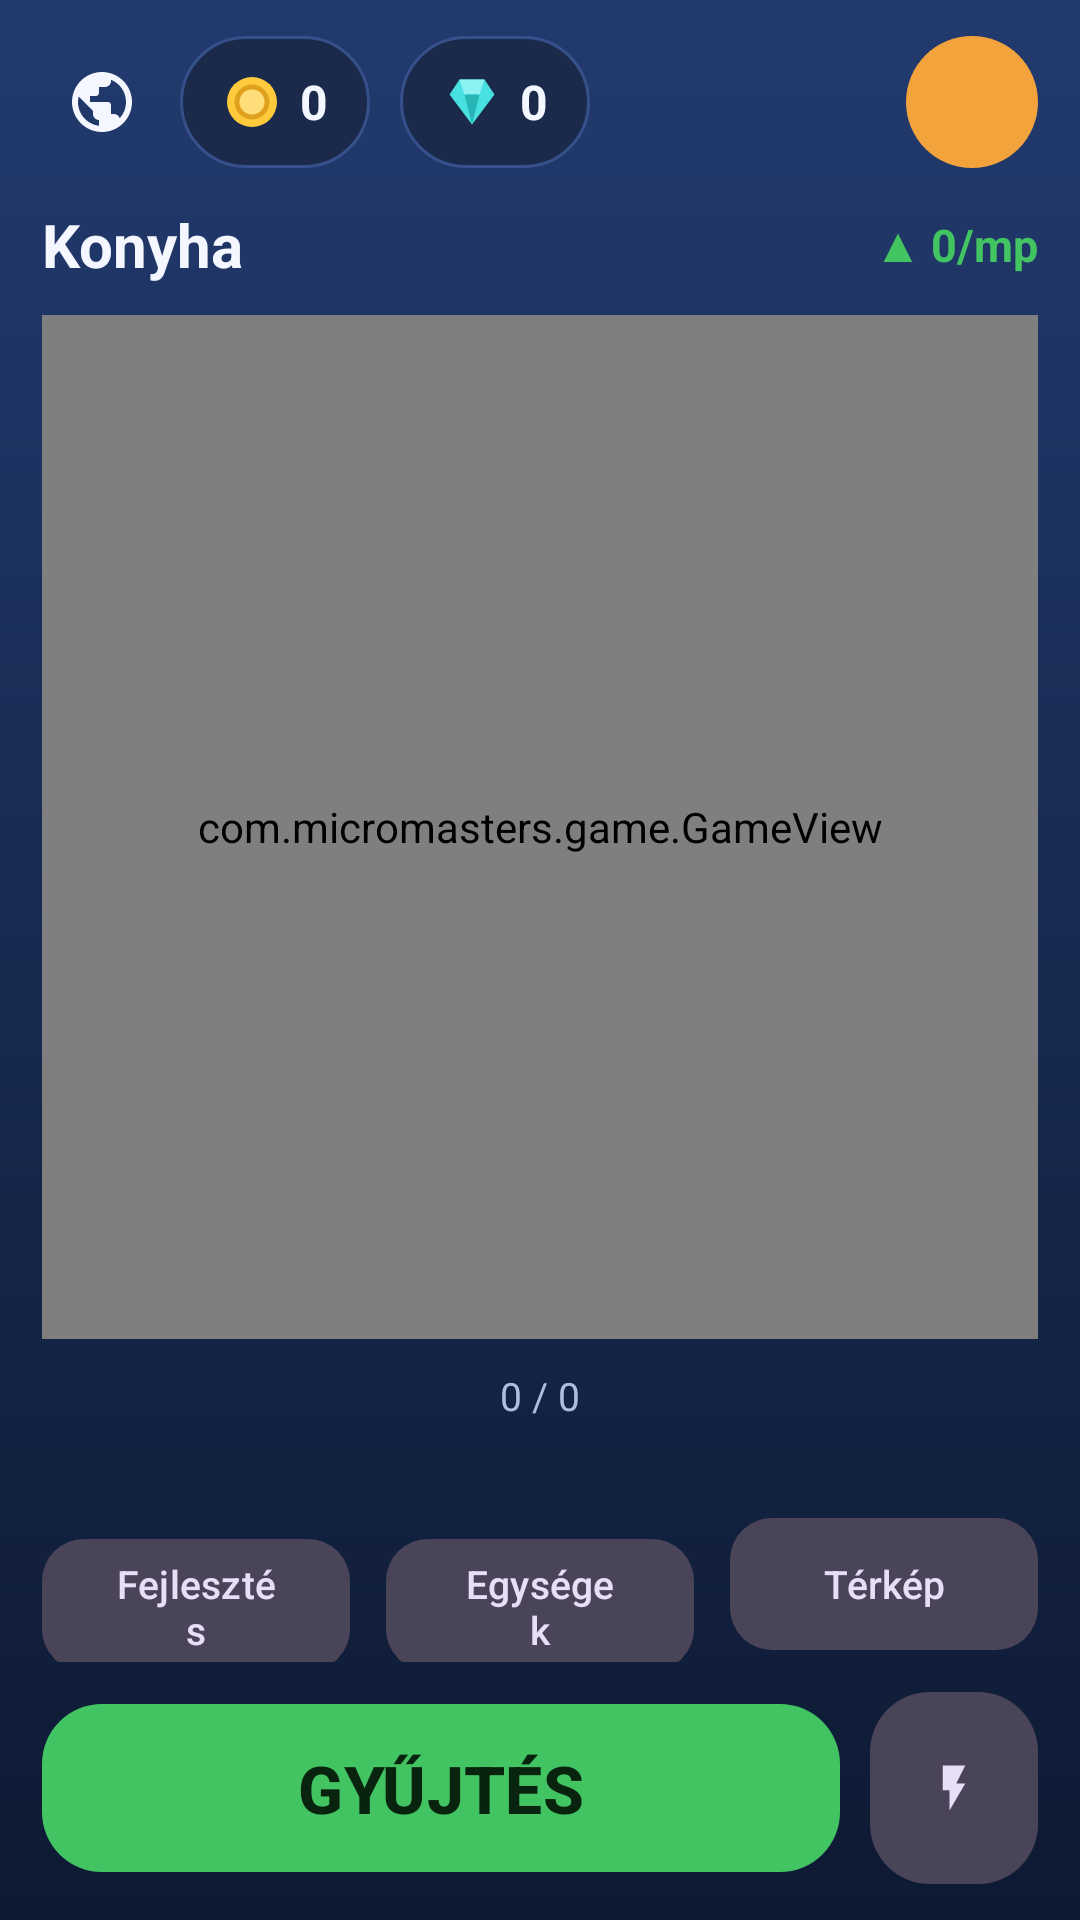

Point at icon controls on the screen. Image size 1080 × 1920, points as [x,y].
boost: [954,1788]
coin: [252,102]
gem: [472,101]
Világok: [102,102]
